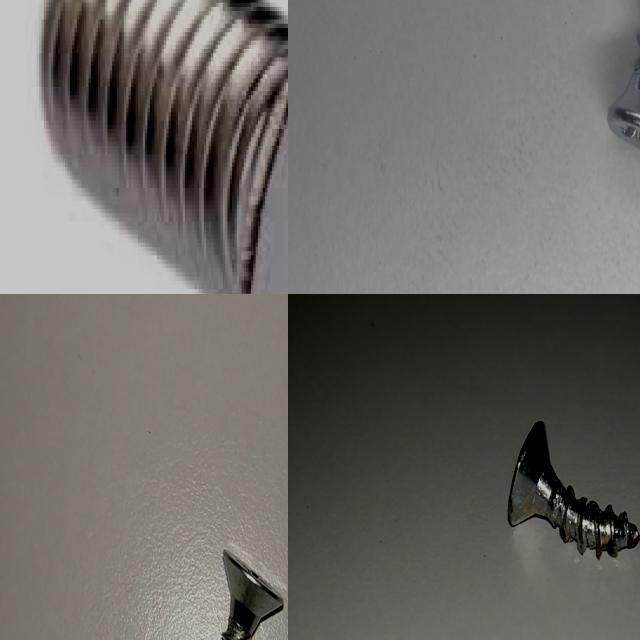Screw: (44, 0, 288, 294), (508, 420, 640, 557), (222, 549, 284, 640), (608, 56, 640, 147)
